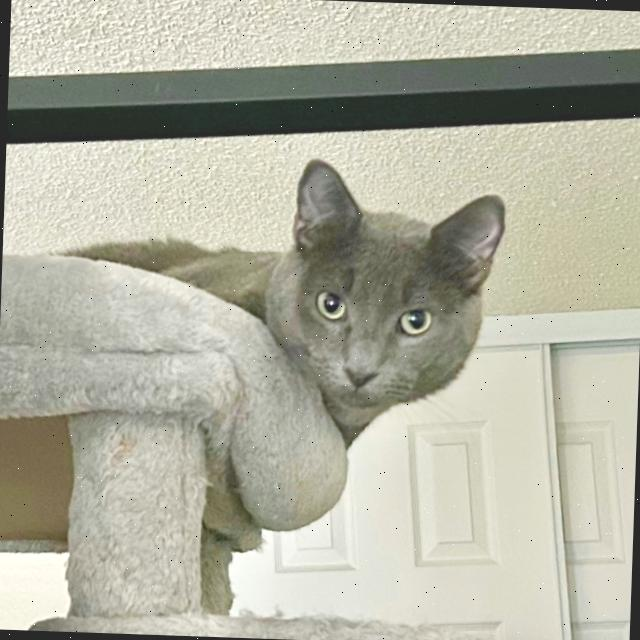russian_blue_cat: (245, 154, 516, 428)
